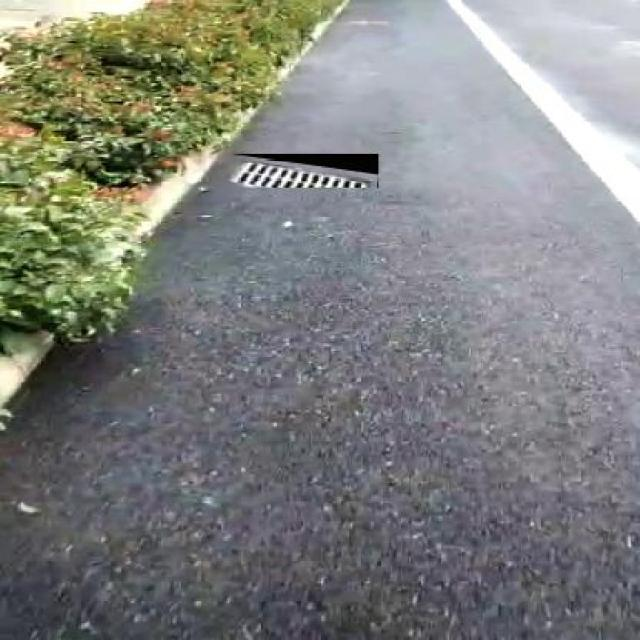Manhole: (230, 154, 378, 188)
